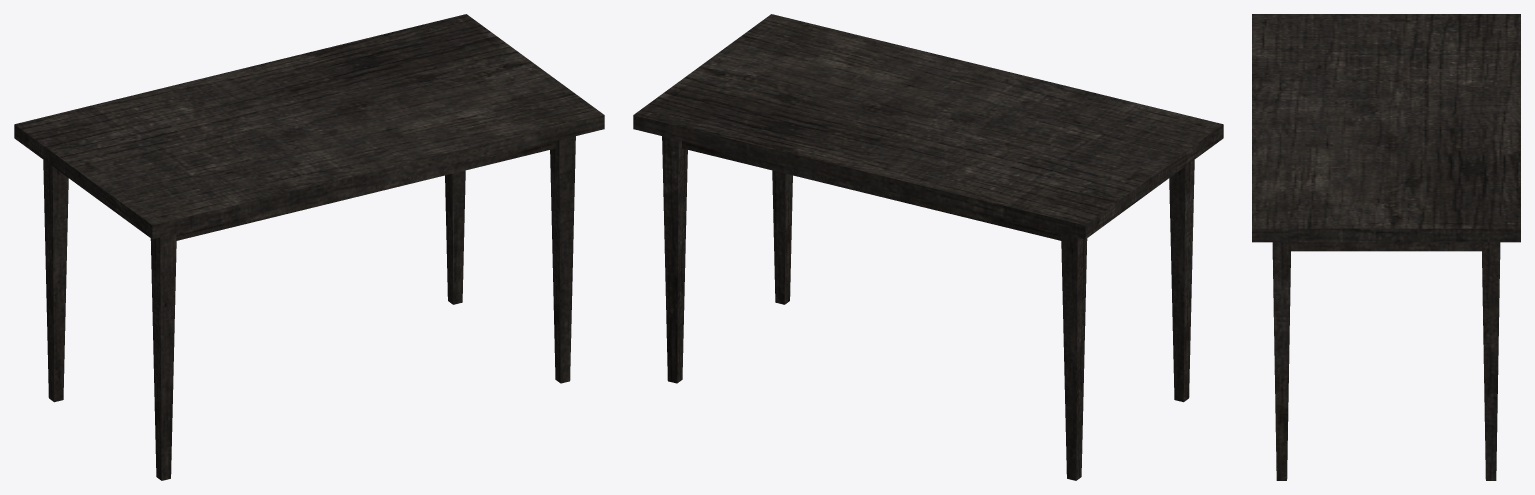
File: table_large_2.obj
3 views of the same model, side by side, from view 1: azimuth 30°, elevation 25°; view 2: azimuth 150°, elevation 25°; view 3: azimuth 270°, elevation 25° (orthographic). The views are drawn at different scales.
Parts seen in each view (by area): view 1: table_large_2; view 2: table_large_2; view 3: table_large_2.
Part boxes in pixels (box(x1,y1,x2,y2)): table_large_2: box(14, 14, 604, 480); table_large_2: box(633, 14, 1223, 480); table_large_2: box(1252, 14, 1520, 480).
Bounding box in the file's own units: 1.7 × 0.97 × 0.9.
Materials: 1 (1 with a texture image).
